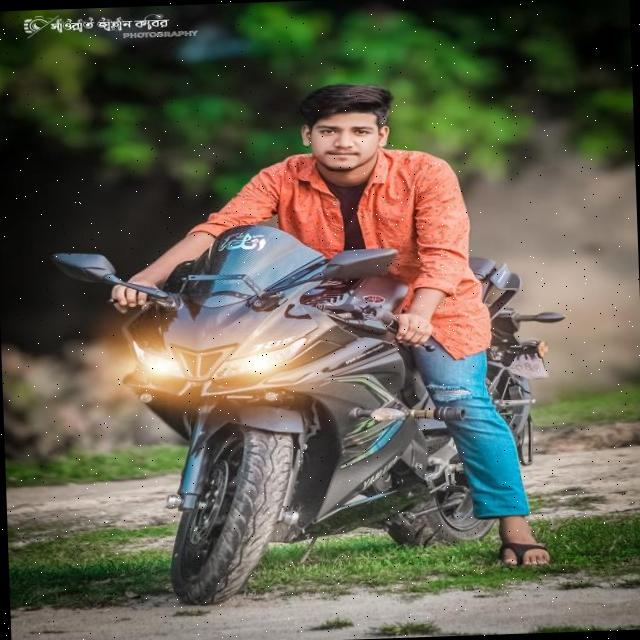No helmet: (288, 75, 398, 174)
